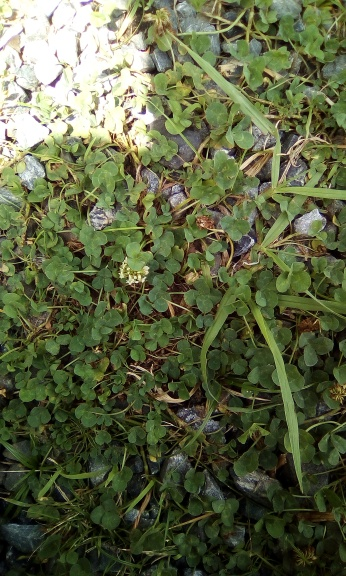4leaf: (183, 278, 223, 314)
